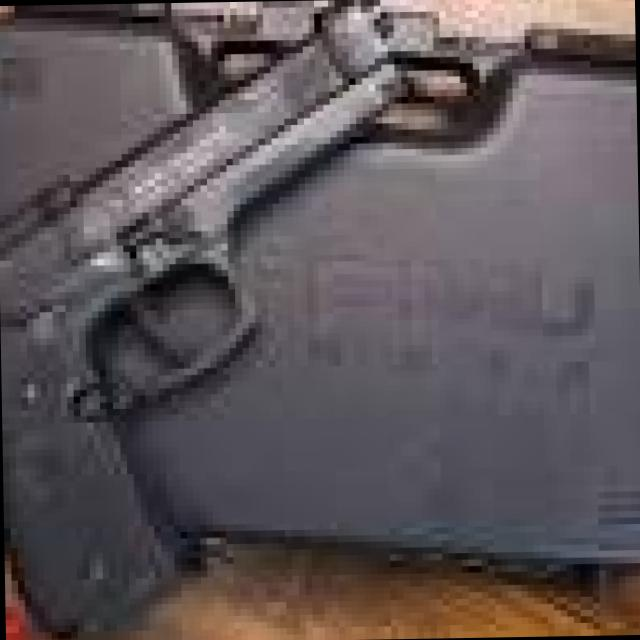Gun: (0, 3, 475, 640)
